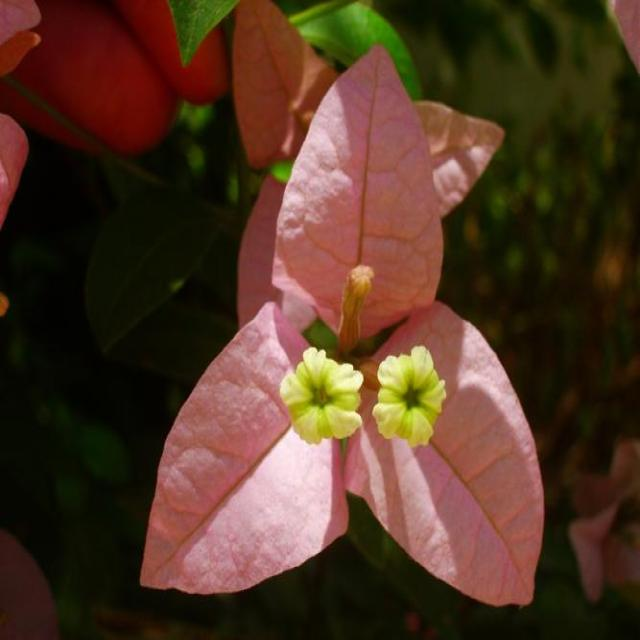bougainvillea: (132, 33, 628, 640)
